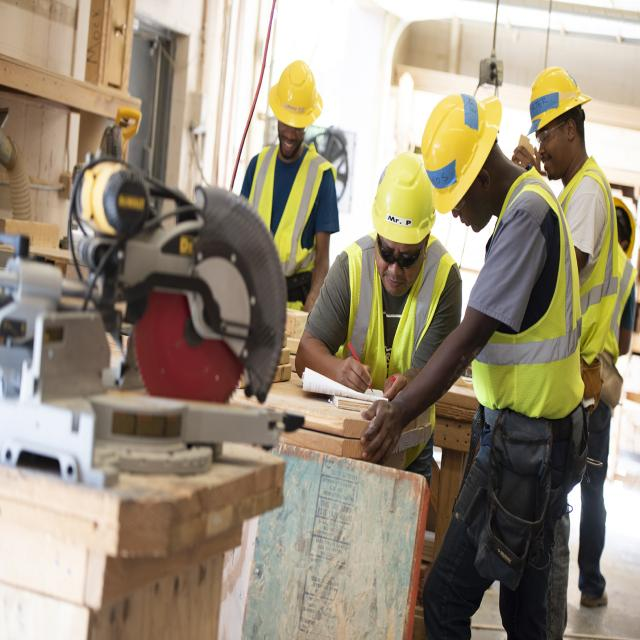Reflective-Jacket: (469, 177, 586, 424), (334, 238, 456, 463), (542, 160, 625, 373), (250, 140, 336, 284)
Safety-Helmet: (419, 86, 501, 210), (369, 147, 436, 245), (526, 61, 590, 134), (266, 55, 324, 127)
